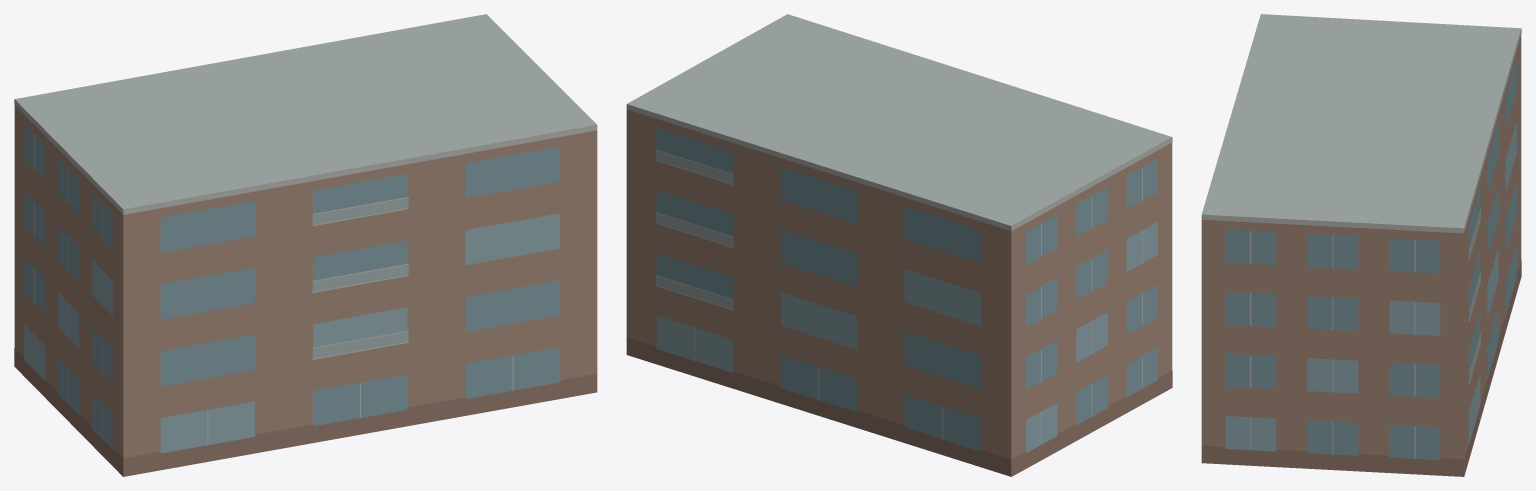
Rendered from survey-upis-32747846.glb.
3 renders of one model, left to right at view 1: azimuth 30°, elevation 25°; view 2: azimuth 150°, elevation 25°; view 3: azimuth 270°, elevation 25°, orthographic. The views are drawn at different scales.
Visible parts, largest first — view 1: survey-upis-32747846.tmp; view 2: survey-upis-32747846.tmp; view 3: survey-upis-32747846.tmp.
Part boxes in pixels (x1=…): survey-upis-32747846.tmp: x1=14, y1=14, x2=597, y2=476; survey-upis-32747846.tmp: x1=626, y1=14, x2=1172, y2=476; survey-upis-32747846.tmp: x1=1201, y1=14, x2=1521, y2=476.
Size of the model in its own units: 21.79 by 11.78 by 13.75.
